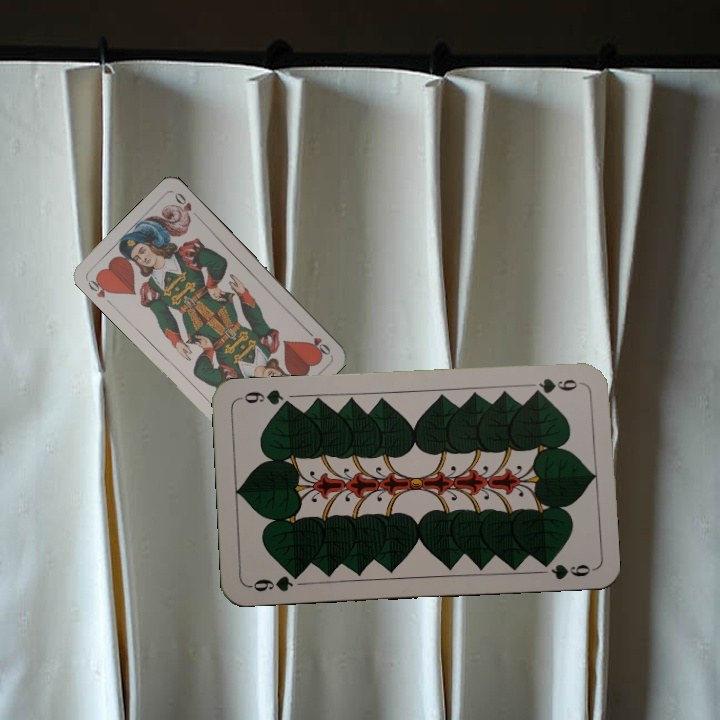G9: (245, 568, 304, 594), (527, 374, 585, 398)
HO: (301, 325, 333, 357), (82, 273, 115, 300)
